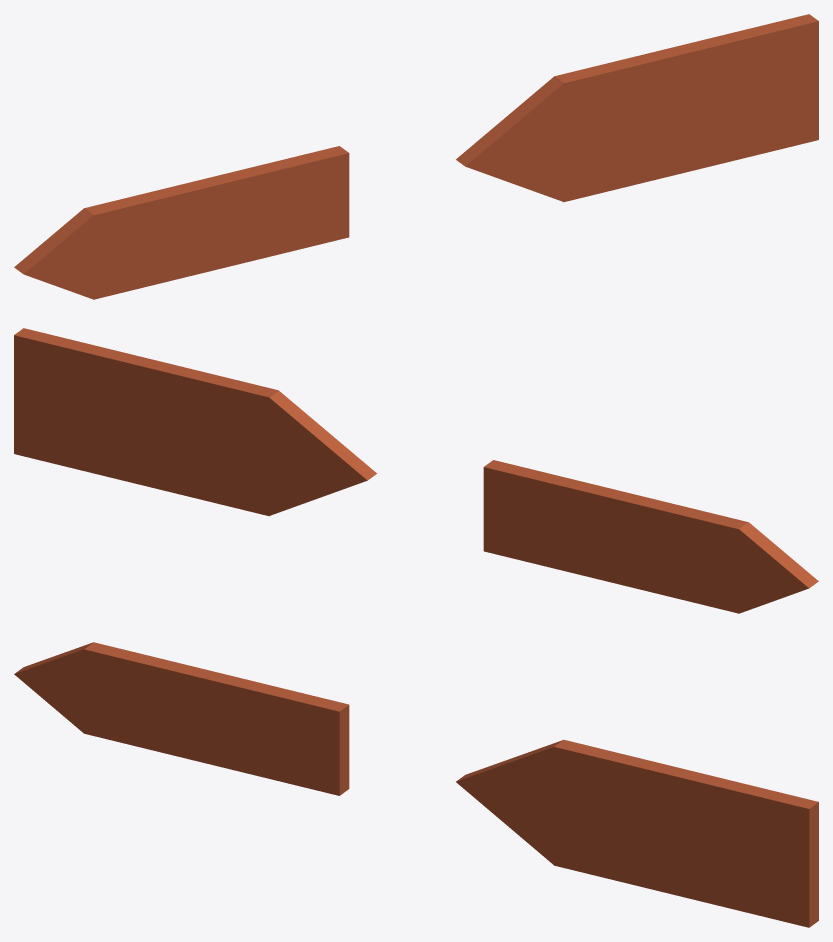
File: Placa_Madeira.fbx
The picture shows the model from 3 angles, top to bottom: view 1: azimuth 30°, elevation 25°; view 2: azimuth 150°, elevation 25°; view 3: azimuth 330°, elevation 25°; orthographic projection.
Visible parts, largest first — view 1: Cube, Cube.001, Cylinder, Cylinder.001; view 2: Cube, Cube.001, Cylinder, Cylinder.001; view 3: Cube, Cube.001, Cylinder, Cylinder.001.
Part boxes in pixels (x1,y1,x2,y2): Cube: (554,14,818,202); Cube.001: (85,146,349,299); Cylinder: (456,76,563,201); Cylinder.001: (14,208,93,299); Cube: (14,328,278,516); Cube.001: (483,460,747,613); Cylinder: (269,390,376,515); Cylinder.001: (739,522,818,613); Cube: (554,740,818,927); Cube.001: (84,642,349,795); Cylinder: (456,740,562,864); Cylinder.001: (14,642,93,733).
Bounding box in the file's own units: 377 × 53.93 × 7.98.
